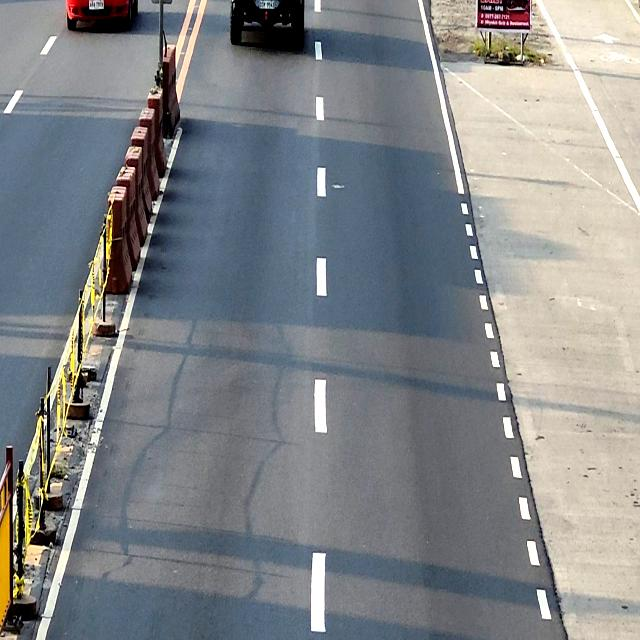Car: (65, 0, 139, 30)
License-Plate: (259, 0, 275, 10), (89, 0, 104, 10)
